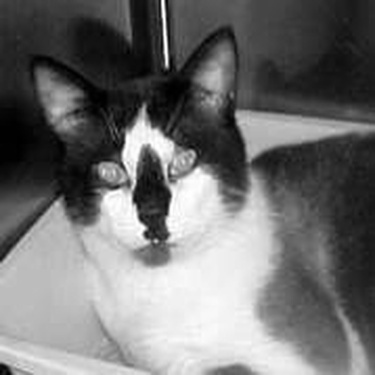cat: (11, 13, 367, 369)
